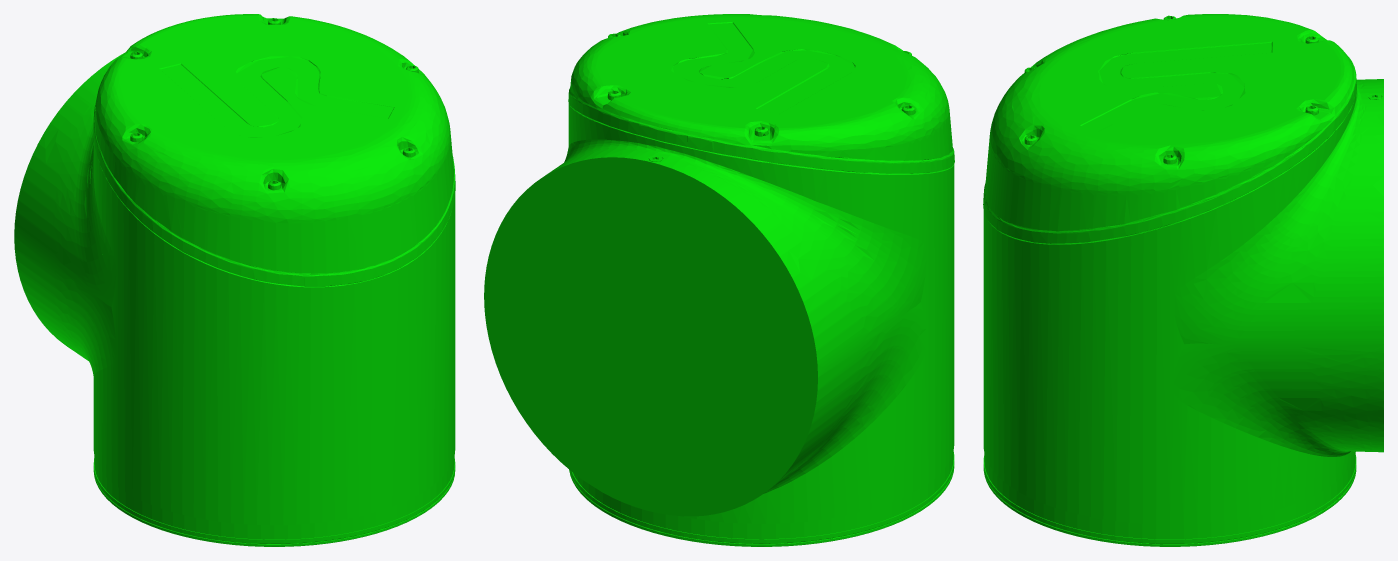
File: shoulderG.dae
The picture shows the model from 3 angles, left to right: view 1: azimuth 30°, elevation 25°; view 2: azimuth 150°, elevation 25°; view 3: azimuth 270°, elevation 25°; orthographic projection. The views are drawn at different scales.
Visible parts, largest first — view 1: node-shape0-name, node-shape1-name, node-shape2-name; view 2: node-shape0-name, node-shape1-name; view 3: node-shape0-name, node-shape1-name, node-shape2-name.
Part boxes in pixels (left/top/right/bottom): node-shape0-name: left=14, top=53, right=455, bottom=546; node-shape1-name: left=93, top=14, right=455, bottom=286; node-shape2-name: left=130, top=18, right=418, bottom=190; node-shape0-name: left=484, top=103, right=954, bottom=546; node-shape1-name: left=568, top=14, right=954, bottom=173; node-shape0-name: left=983, top=79, right=1383, bottom=546; node-shape1-name: left=983, top=14, right=1356, bottom=243; node-shape2-name: left=1024, top=15, right=1381, bottom=164.
Size of the model in its own units: 0.1503 by 0.1612 by 0.1772.
